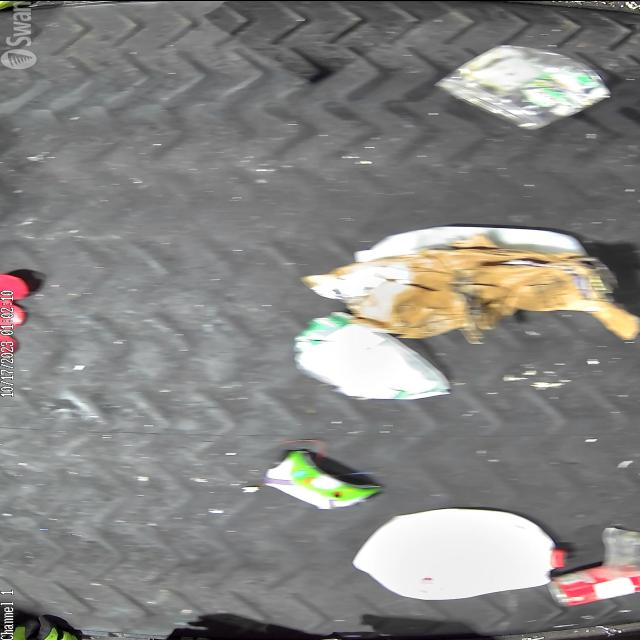can: (548, 565, 640, 605)
milk_jug: (348, 506, 569, 602), (353, 224, 588, 260)
